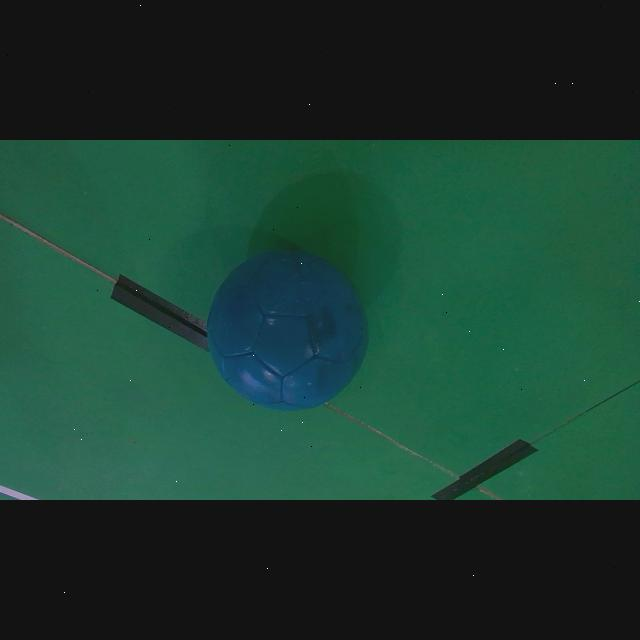B: (207, 251, 368, 410)
